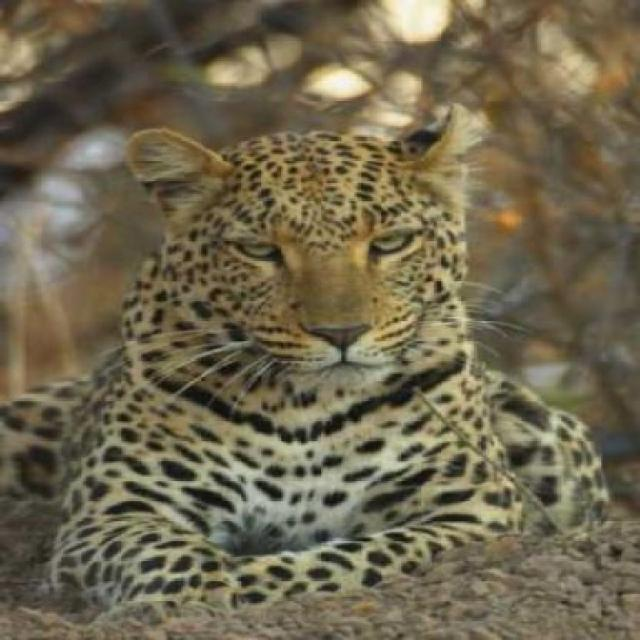Leopard: (84, 97, 499, 598)
